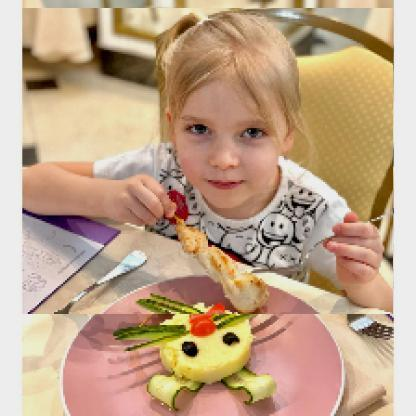child: (23, 9, 395, 316)
